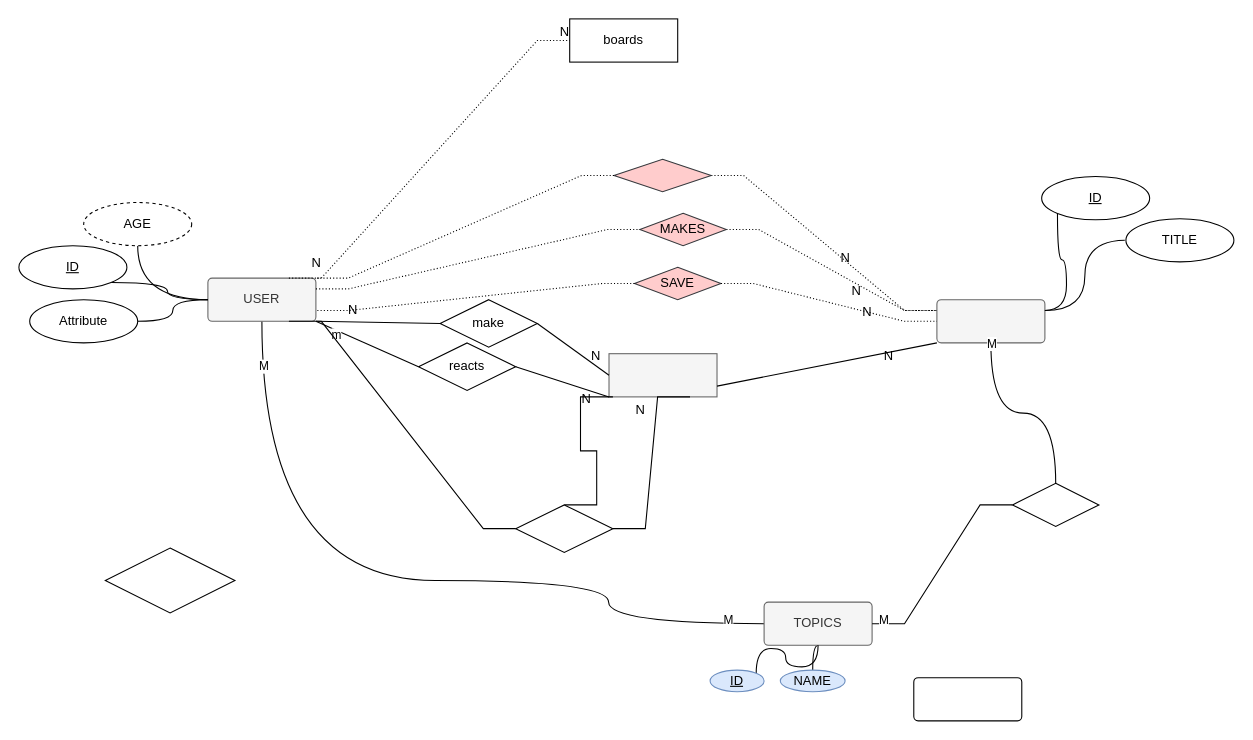
The diagram is 1253 pixels wide and 740 high, and some of its shapes have lost their labels. Here are the shapes that lost their labels. From the top down, the centre of each, then its label:
At [662,175]: "react".
At [990,321]: "PINS".
At [662,375]: "comment".
At [1055,504]: "HAS".
At [564,528]: "reply".
At [169,580]: "follows".
At [967,699]: "messages".
